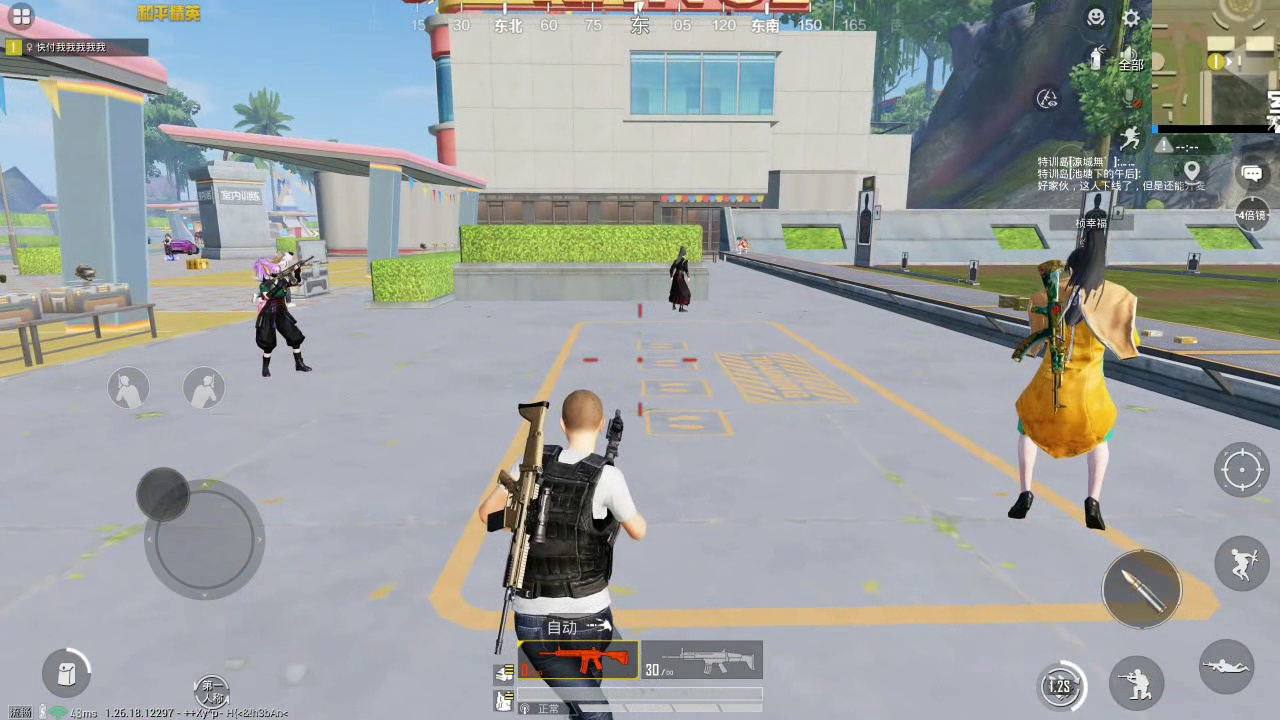enemy: (1011, 229, 1109, 524), (251, 251, 318, 372), (669, 246, 692, 318), (158, 232, 174, 258), (735, 235, 749, 255)
